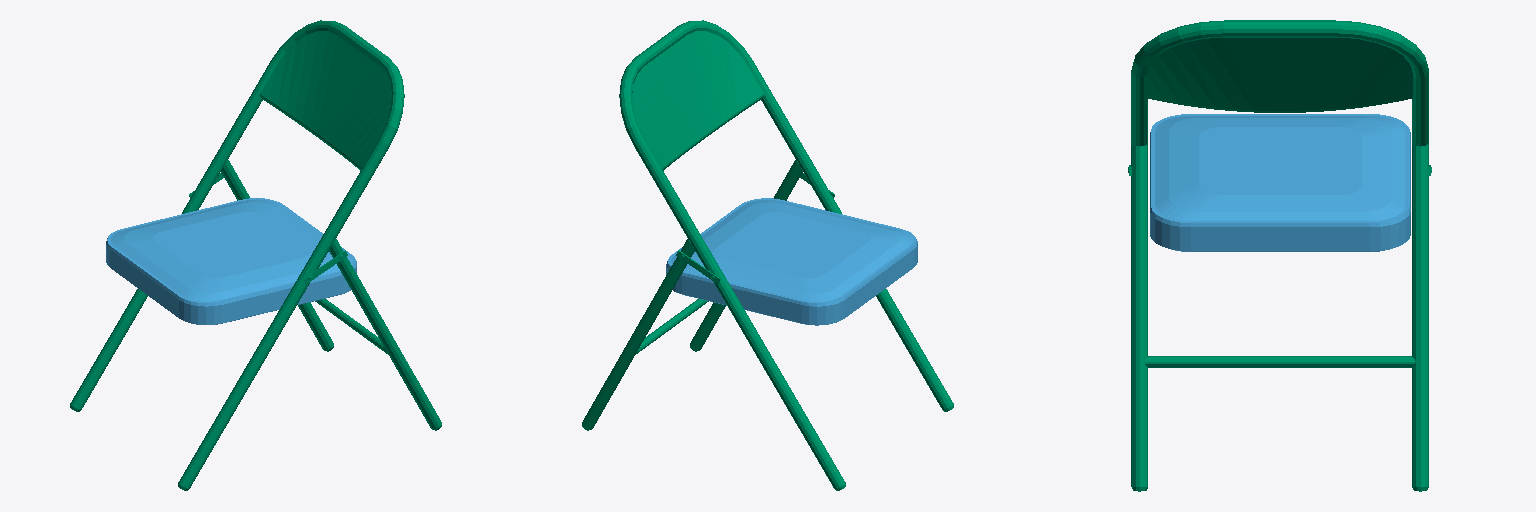
robot.urdf — partnet_8841a35812d5a95f98a4820926b2a786:
<?xml version="1.0" ?>
<robot name="partnet_8841a35812d5a95f98a4820926b2a786">
	<link name="base"/>
	<link name="link_0">
		<visual name="seat-1">
			<origin xyz="0 0.10308522362873963 -0.1536175273582958"/>
			<geometry>
				<mesh filename="textured_objs/original-2.obj"/>
			</geometry>
		</visual>
		<collision>
			<origin xyz="0 0.10308522362873963 -0.1536175273582958"/>
			<geometry>
				<mesh filename="textured_objs/original-2.obj"/>
			</geometry>
		</collision>
	</link>
	<joint name="joint_0" type="revolute">
		<origin xyz="0 -0.10308522362873963 0.1536175273582958"/>
		<axis xyz="-1 0 0"/>
		<child link="link_0"/>
		<parent link="link_1"/>
		<limit lower="-0.0" upper="2.1928316722056755"/>
	</joint>
	<link name="link_1">
		<visual name="base_body-2">
			<origin xyz="0 0 0"/>
			<geometry>
				<mesh filename="textured_objs/original-4.obj"/>
			</geometry>
		</visual>
		<visual name="base_body-2">
			<origin xyz="0 0 0"/>
			<geometry>
				<mesh filename="textured_objs/original-3.obj"/>
			</geometry>
		</visual>
		<visual name="base_body-2">
			<origin xyz="0 0 0"/>
			<geometry>
				<mesh filename="textured_objs/original-8.obj"/>
			</geometry>
		</visual>
		<visual name="base_body-2">
			<origin xyz="0 0 0"/>
			<geometry>
				<mesh filename="textured_objs/original-5.obj"/>
			</geometry>
		</visual>
		<visual name="base_body-2">
			<origin xyz="0 0 0"/>
			<geometry>
				<mesh filename="textured_objs/original-6.obj"/>
			</geometry>
		</visual>
		<visual name="base_body-2">
			<origin xyz="0 0 0"/>
			<geometry>
				<mesh filename="textured_objs/original-7.obj"/>
			</geometry>
		</visual>
		<visual name="base_body-2">
			<origin xyz="0 0 0"/>
			<geometry>
				<mesh filename="textured_objs/original-1.obj"/>
			</geometry>
		</visual>
		<collision>
			<origin xyz="0 0 0"/>
			<geometry>
				<mesh filename="textured_objs/original-4.obj"/>
			</geometry>
		</collision>
		<collision>
			<origin xyz="0 0 0"/>
			<geometry>
				<mesh filename="textured_objs/original-3.obj"/>
			</geometry>
		</collision>
		<collision>
			<origin xyz="0 0 0"/>
			<geometry>
				<mesh filename="textured_objs/original-8.obj"/>
			</geometry>
		</collision>
		<collision>
			<origin xyz="0 0 0"/>
			<geometry>
				<mesh filename="textured_objs/original-5.obj"/>
			</geometry>
		</collision>
		<collision>
			<origin xyz="0 0 0"/>
			<geometry>
				<mesh filename="textured_objs/original-6.obj"/>
			</geometry>
		</collision>
		<collision>
			<origin xyz="0 0 0"/>
			<geometry>
				<mesh filename="textured_objs/original-7.obj"/>
			</geometry>
		</collision>
		<collision>
			<origin xyz="0 0 0"/>
			<geometry>
				<mesh filename="textured_objs/original-1.obj"/>
			</geometry>
		</collision>
	</link>
	<joint name="joint_1" type="fixed">
		<origin rpy="1.570796326794897 0 -1.570796326794897" xyz="0 0 0"/>
		<child link="link_1"/>
		<parent link="base"/>
	</joint>
</robot>

--- What the picture shows (computed from the rendered views, not written in the file) ---
Views: 3 orthographic renders of the robot side by side, from view 1: azimuth 30°, elevation 25°; view 2: azimuth 150°, elevation 25°; view 3: azimuth 270°, elevation 25°.
Model partnet_8841a35812d5a95f98a4820926b2a786 with 3 links and 2 joints (1 revolute, 1 fixed), rooted at base, posed every joint at zero.
Visible links, largest first — view 1: link_1, link_0; view 2: link_1, link_0; view 3: link_1, link_0.
Boxes of the visible links, x1,y1,x2,y2 form: link_1: (70, 20, 441, 490); link_0: (106, 198, 356, 324); link_1: (582, 20, 953, 490); link_0: (666, 198, 917, 325); link_1: (1128, 20, 1431, 491); link_0: (1150, 114, 1410, 251).
Bounding box of the posed robot: 1.04 × 0.8008 × 1.34 m (x, y, z).
8 mesh visuals loaded from 8 distinct referenced files (8 OBJ).